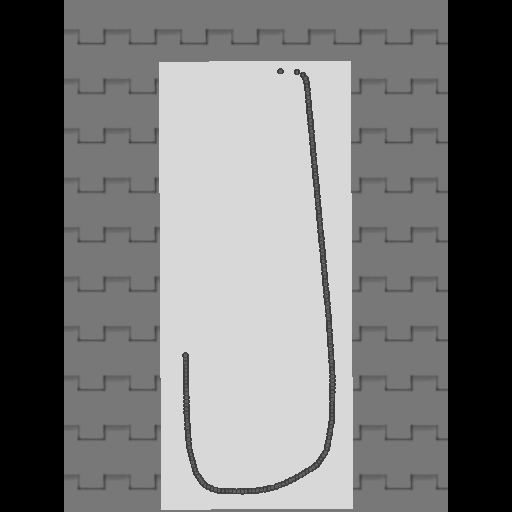Defect: (177, 83, 218, 354)
